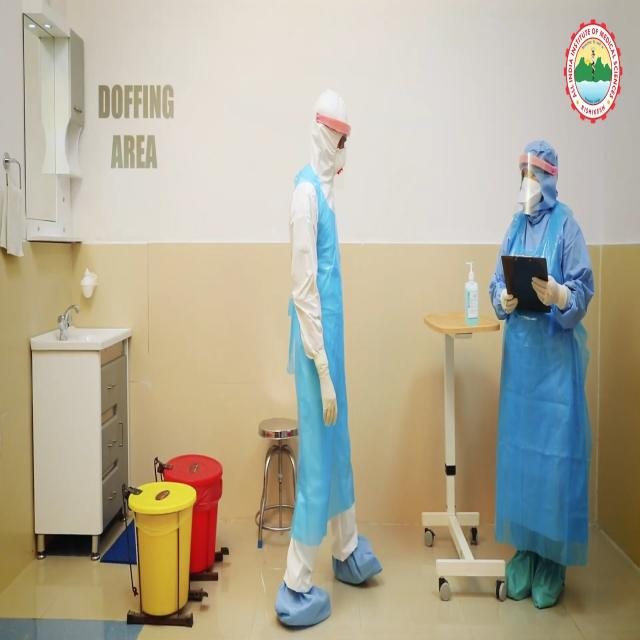Coverall: (490, 139, 599, 566)
Gloves: (532, 265, 570, 313), (498, 281, 518, 323)
